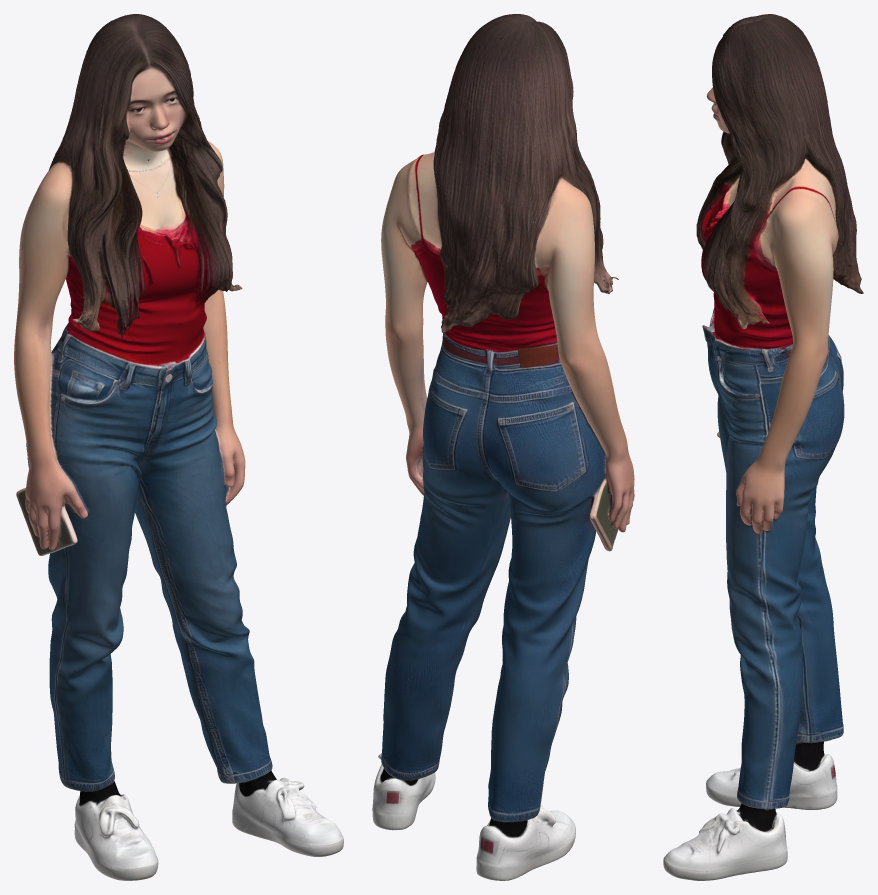
The model's file is casual_confidence.glb.
3 renders of one model, left to right at view 1: azimuth 30°, elevation 25°; view 2: azimuth 150°, elevation 25°; view 3: azimuth 270°, elevation 25°, orthographic. The views are drawn at different scales.
Parts seen in each view (by area): view 1: Object_5, Object_7, Object_6; view 2: Object_6, Object_5, Object_7; view 3: Object_5, Object_6, Object_7.
Part boxes in pixels (x1,y1,x2,y2): Object_5: (14,14,343,880); Object_7: (27,30,322,879); Object_6: (14,16,283,857); Object_6: (372,15,634,880); Object_5: (380,14,618,880); Object_7: (378,14,634,859); Object_5: (663,14,842,880); Object_6: (715,16,863,871); Object_7: (700,20,766,878).
Size of the model in its own units: 0.6522 by 1.9 by 0.4364.
Materials: 1 (1 with a texture image).
